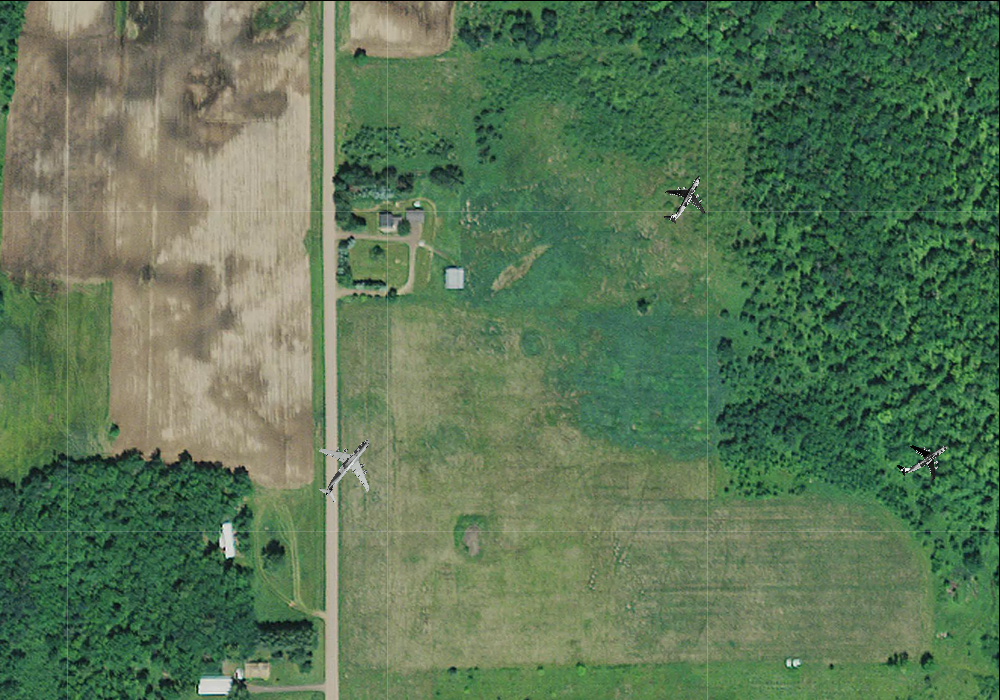plane: (297, 418, 397, 518), (649, 162, 720, 235), (888, 424, 959, 494)
